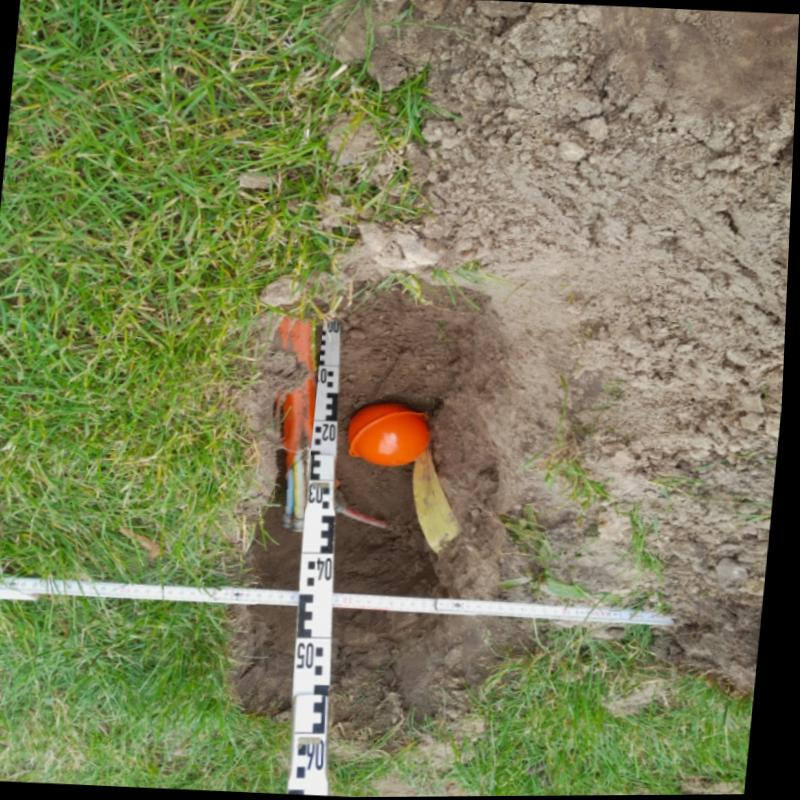Kugelmarker: (352, 405, 435, 465)
Orang-Speednetrohrchen: (283, 318, 320, 531)
